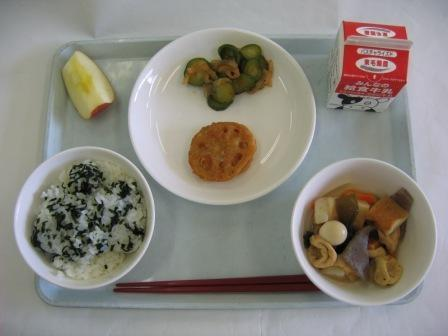Apple: (55, 42, 124, 116)
Milk: (320, 14, 421, 115)
Rice: (12, 153, 154, 283)
Salad: (172, 28, 276, 108)
cutlet: (182, 115, 267, 187)
vegetable based cooked food: (301, 164, 422, 294)
